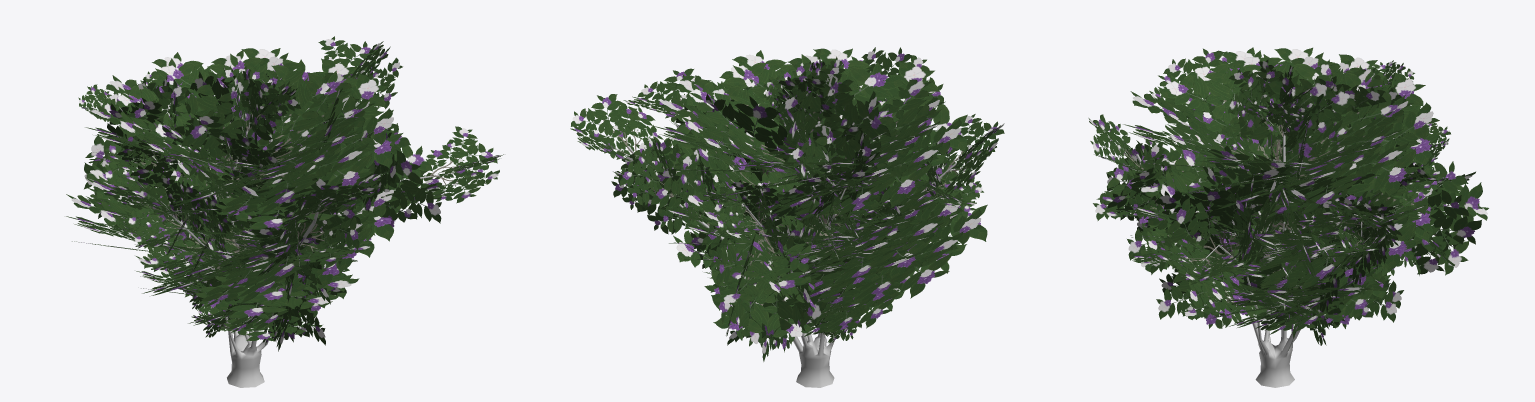
Rendered from FRANCESINO_LISTO.fbx.
3 views of the same model, side by side, from view 1: azimuth 30°, elevation 25°; view 2: azimuth 150°, elevation 25°; view 3: azimuth 270°, elevation 25° (orthographic).
Visible parts, largest first — view 1: francesino_LOD0; view 2: francesino_LOD0; view 3: francesino_LOD0.
Boxes of the visible parts, bbox=[...] form: francesino_LOD0: bbox=[66, 36, 503, 387]; francesino_LOD0: bbox=[570, 47, 1004, 387]; francesino_LOD0: bbox=[1088, 47, 1488, 387].
Size of what is drawn, in the model's own units: 3.19 by 2.46 by 2.97.
